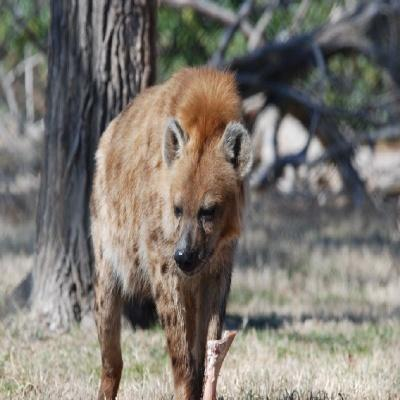hyenas: (58, 54, 338, 400)
